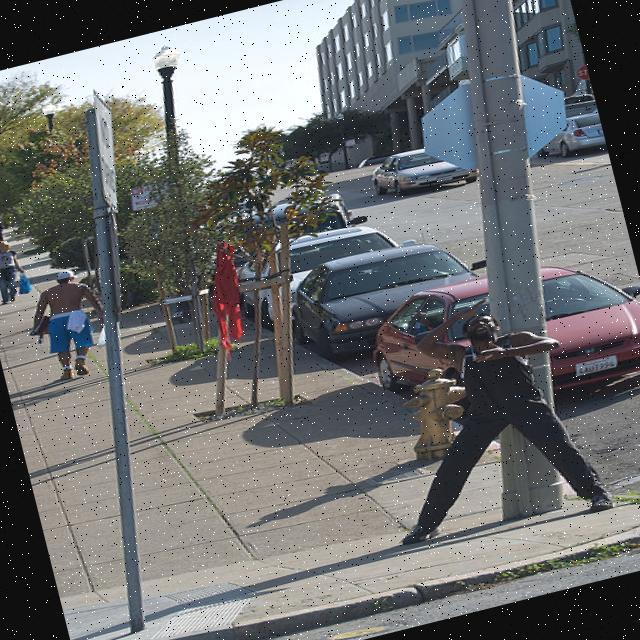fire_hydrant: (393, 362, 481, 464)
